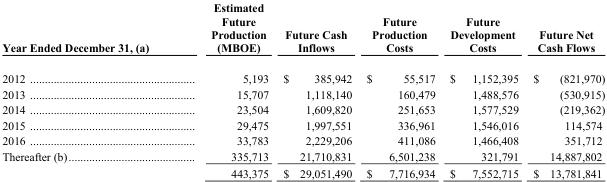table: (1, 0, 604, 179)
table column: (1, 0, 179, 179), (179, 0, 275, 179), (441, 0, 525, 179), (275, 0, 358, 179), (358, 0, 441, 179), (525, 0, 604, 179)
table column header: (1, 0, 604, 62)
table row: (1, 0, 604, 62), (1, 62, 604, 86), (1, 101, 604, 117), (1, 132, 604, 148), (1, 148, 604, 164), (1, 86, 604, 101), (1, 117, 604, 132), (1, 164, 604, 179)
